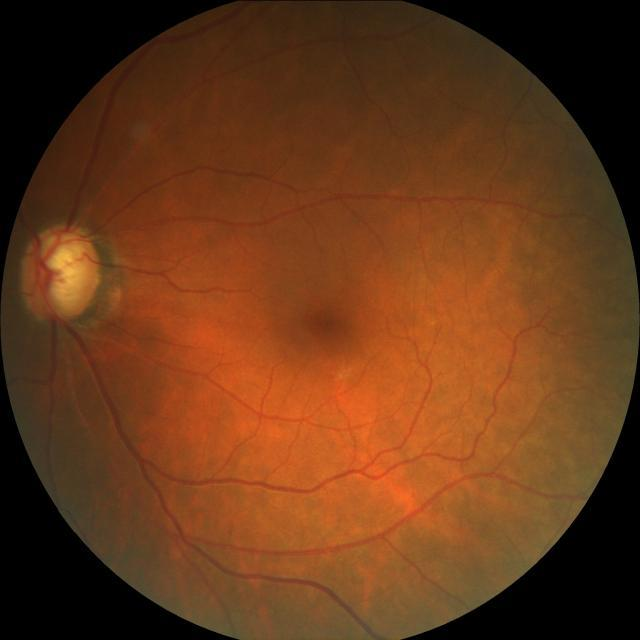OC: (32, 234, 90, 303)
OD: (22, 222, 104, 320)
